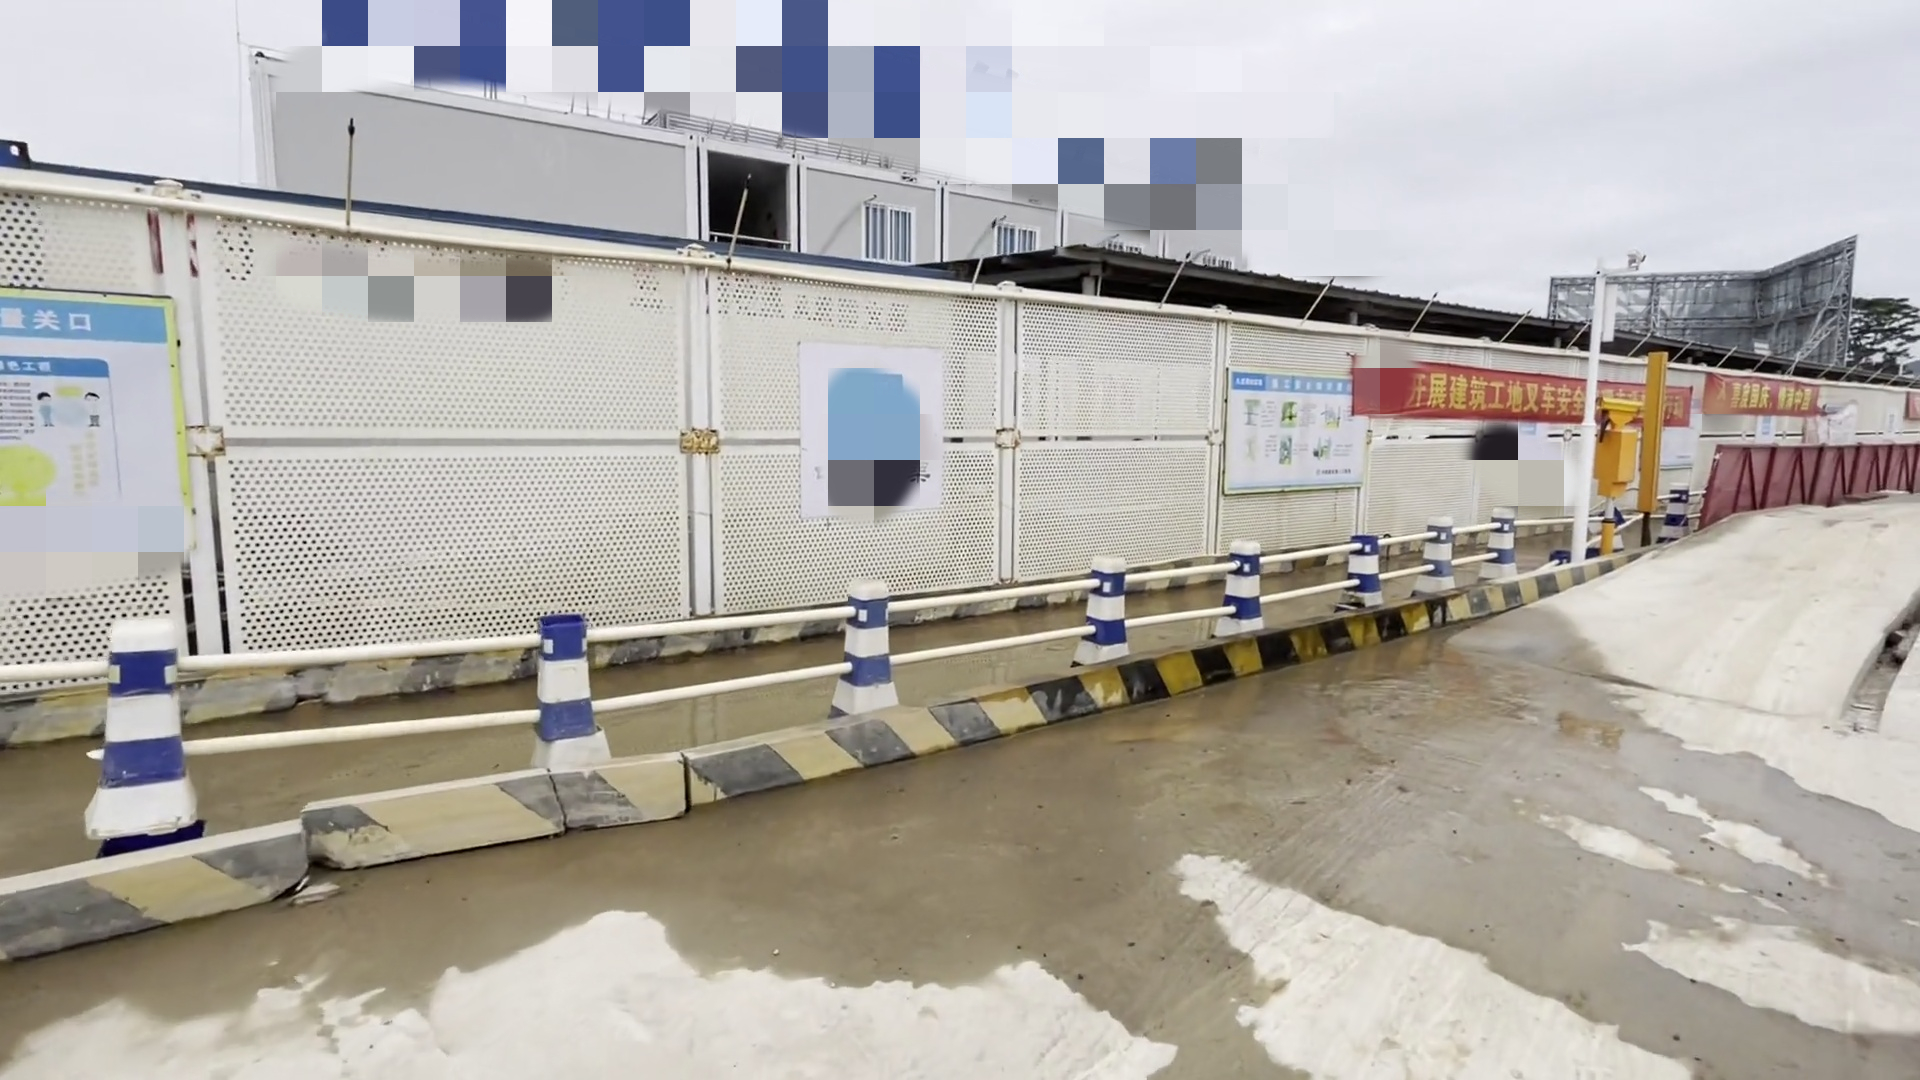fence: (1684, 438, 1920, 541)
slogan: (1360, 353, 1830, 444), (1230, 364, 1362, 506)
